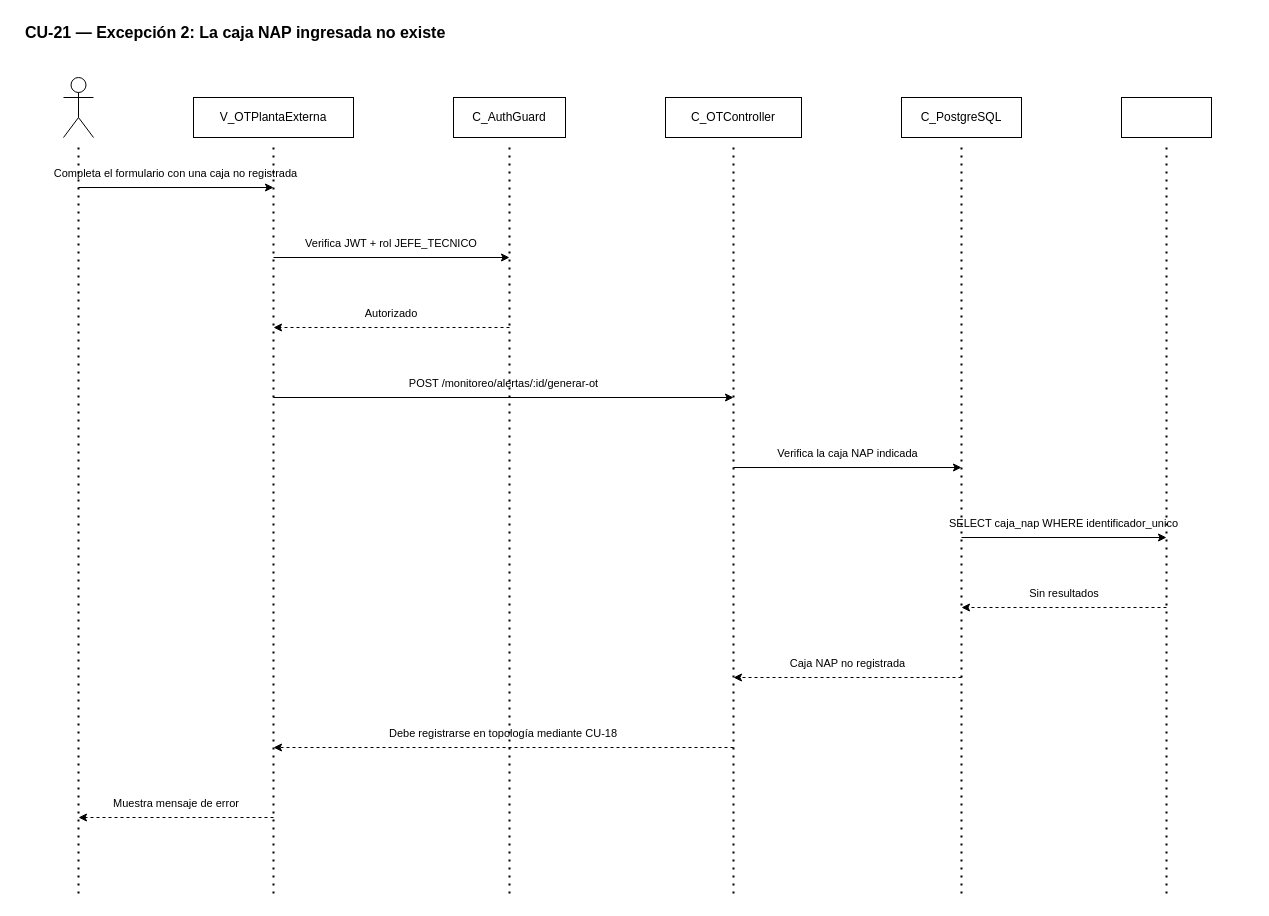
The diagram is 1269 pixels wide and 916 high, and some of its shapes have lost their labels. Here are the shapes that lost their labels. From the top down, the box of each, then its label:
(62, 76, 94, 138): Jefe Técnico
(1120, 96, 1212, 138): caja_nap
